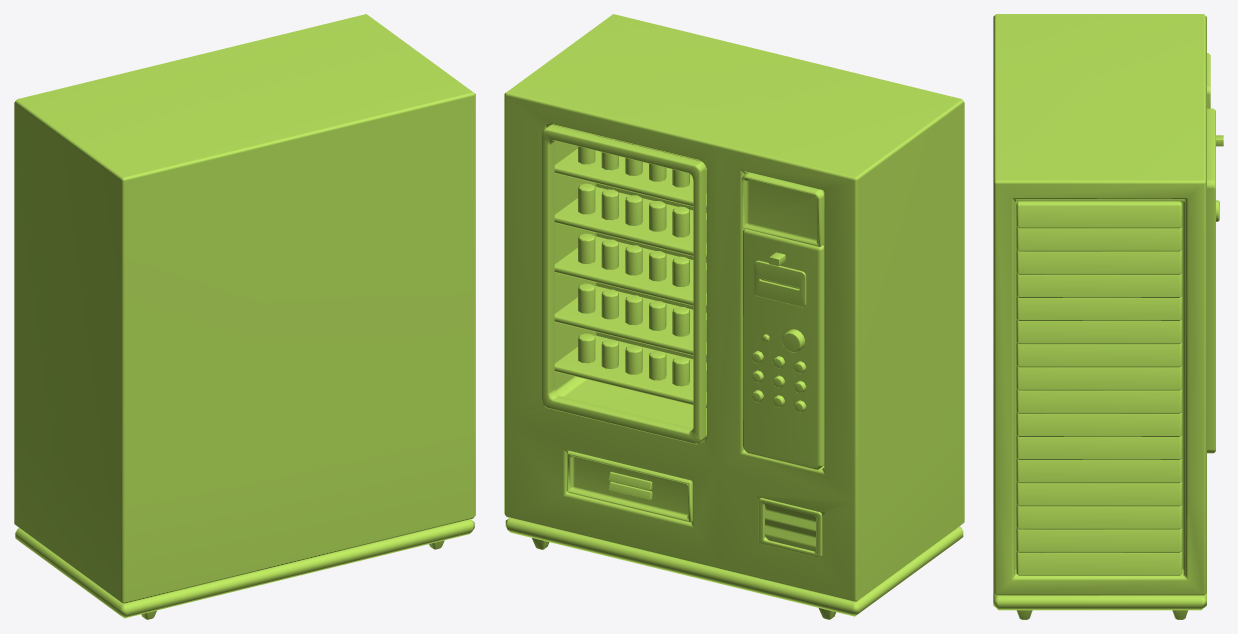
Rendered from SM_Vending_Machine.fbx.
3 renders of one model, left to right at view 1: azimuth 30°, elevation 25°; view 2: azimuth 150°, elevation 25°; view 3: azimuth 270°, elevation 25°, orthographic. The views are drawn at different scales.
Parts seen in each view (by area): view 1: Cube, Cube.011; view 2: Cube, Cube.014, Cube.003, Cylinder.002, Cube.001, Cube.011, Cube.004, Cube.013, Cube.005, Cube.010, Cube.009, Cylinder (+1 smaller); view 3: Cube, Cube.015, Cube.011, Cube.001.
Part boxes in pixels (box(x1,y1,x2,y2)): Cube: box(14, 14, 475, 603); Cube.011: box(15, 519, 474, 618); Cube: box(504, 14, 964, 602); Cube.014: box(554, 148, 706, 408); Cube.003: box(742, 229, 823, 470); Cylinder.002: box(578, 134, 706, 391); Cube.001: box(542, 125, 705, 444); Cube.011: box(505, 518, 963, 616); Cube.004: box(741, 172, 823, 247); Cube.013: box(567, 451, 692, 522); Cube.005: box(754, 260, 806, 307); Cube.010: box(765, 503, 815, 551); Cube.009: box(758, 498, 822, 557); Cylinder: box(751, 350, 806, 412); Cube: box(993, 14, 1206, 595); Cube.015: box(1016, 201, 1182, 575); Cube.011: box(993, 593, 1206, 610); Cube.001: box(1207, 108, 1215, 453).
Size of the model in its own units: 96.99 by 120 by 56.01.
